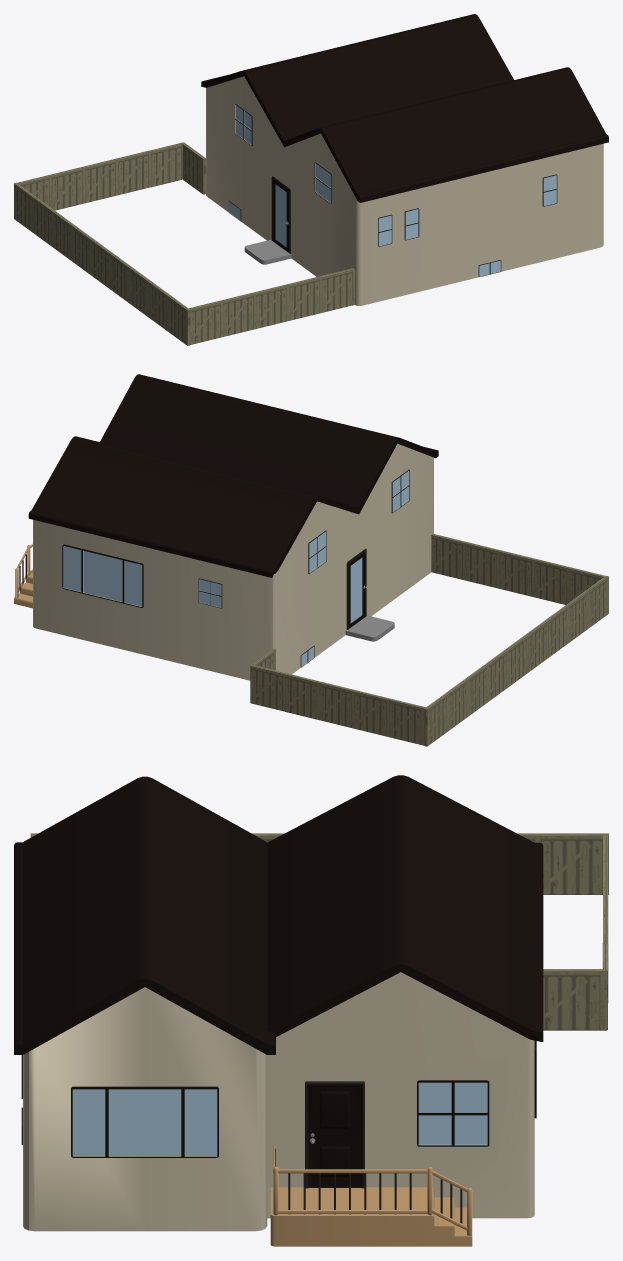
The model's file is house1.fbx.
The picture shows the model from 3 angles, top to bottom: view 1: azimuth 30°, elevation 25°; view 2: azimuth 150°, elevation 25°; view 3: azimuth 270°, elevation 25°; orthographic projection. The views are drawn at different scales.
Visible parts, largest first — view 1: house 2, backdoor, gate.003, gate.014, gaet, gate.002, gate.016, gate, gate.013, gate.015, gate.001, gate.017 (+13 smaller); view 2: house 2, window.001, backdoor, gate.004, gate, gate.014, gate.016, gate.002, gate.003, gaet, gate.015, gate.001 (+11 smaller); view 3: house 2, window, Cube.037, door, front window, gate.017, gatge, walkway.015.
Part boxes in pixels (x1=…): house 2: x1=201, y1=14, x2=608, y2=305; backdoor: x1=271, y1=176, x2=290, y2=253; gate.003: x1=51, y1=166, x2=85, y2=210; gate.014: x1=255, y1=284, x2=289, y2=328; gaet: x1=222, y1=292, x2=256, y2=336; gate.002: x1=84, y1=158, x2=118, y2=203; gate.016: x1=289, y1=276, x2=322, y2=320; gate: x1=117, y1=150, x2=151, y2=194; gate.013: x1=189, y1=300, x2=223, y2=344; gate.015: x1=321, y1=268, x2=354, y2=312; gate.001: x1=149, y1=142, x2=184, y2=187; gate.017: x1=182, y1=142, x2=205, y2=194; house 2: x1=28, y1=374, x2=438, y2=680; window.001: x1=62, y1=544, x2=143, y2=607; backdoor: x1=346, y1=548, x2=366, y2=629; gate.004: x1=389, y1=698, x2=425, y2=745; gate: x1=285, y1=673, x2=320, y2=720; gate.014: x1=499, y1=550, x2=535, y2=597; gate.016: x1=465, y1=542, x2=501, y2=588; gate.002: x1=319, y1=681, x2=355, y2=728; gate.003: x1=354, y1=690, x2=389, y2=736; gaet: x1=534, y1=559, x2=570, y2=604; gate.015: x1=431, y1=533, x2=466, y2=580; gate.001: x1=250, y1=665, x2=286, y2=711; house 2: x1=14, y1=775, x2=543, y2=1231; window: x1=71, y1=1086, x2=218, y2=1157; Cube.037: x1=270, y1=1187, x2=472, y2=1246; door: x1=305, y1=1081, x2=364, y2=1188; front window: x1=417, y1=1080, x2=489, y2=1146; gate.017: x1=543, y1=969, x2=607, y2=1030; gatge: x1=540, y1=833, x2=608, y2=894; walkway.015: x1=273, y1=1144, x2=472, y2=1235.
Size of the model in its own units: 1666 by 556 by 1183.
